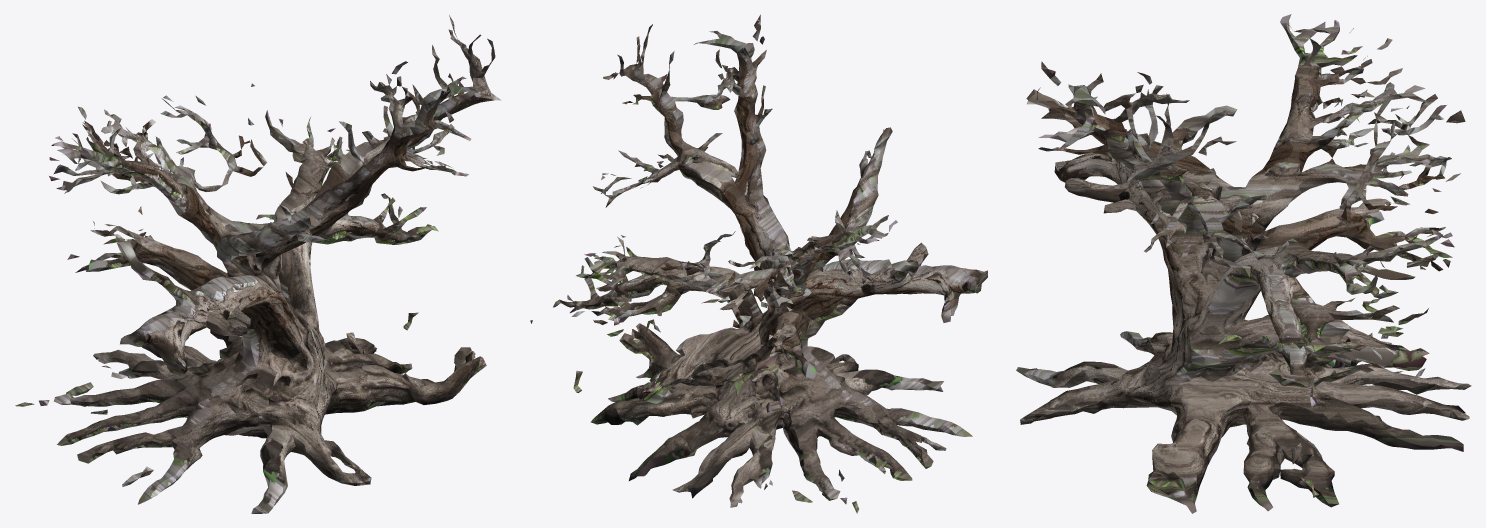
Rendered from dead_tree_b.glb.
The picture shows the model from 3 angles, left to right: view 1: azimuth 30°, elevation 25°; view 2: azimuth 150°, elevation 25°; view 3: azimuth 270°, elevation 25°; orthographic projection. The views are drawn at different scales.
Parts seen in each view (by area): view 1: geometry_0; view 2: geometry_0; view 3: geometry_0.
Part boxes in pixels (x1=…): geometry_0: x1=15, y1=15, x2=501, y2=513; geometry_0: x1=530, y1=14, x2=987, y2=513; geometry_0: x1=1016, y1=14, x2=1471, y2=513.
Bounding box in the file's own units: 5.13 × 5 × 4.89.
Materials: 1 (1 with a texture image).
